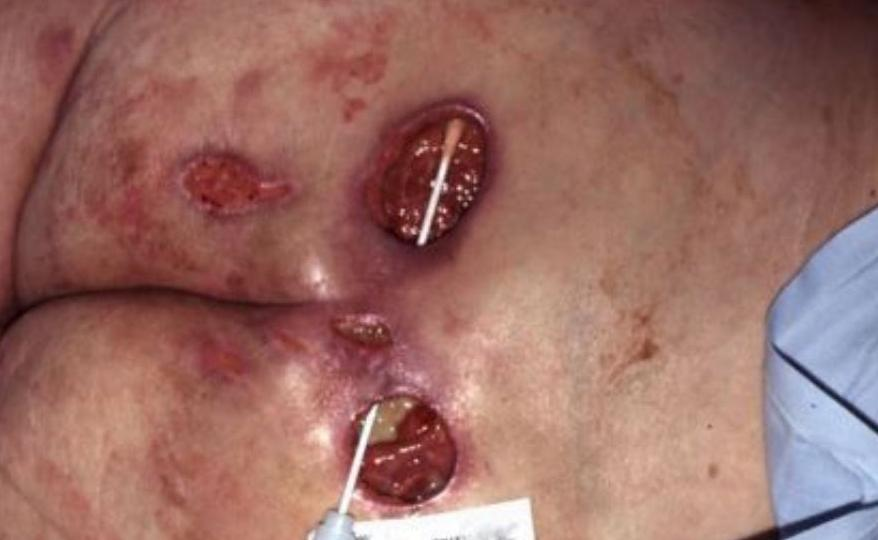Stage3: (298, 50, 597, 423)
